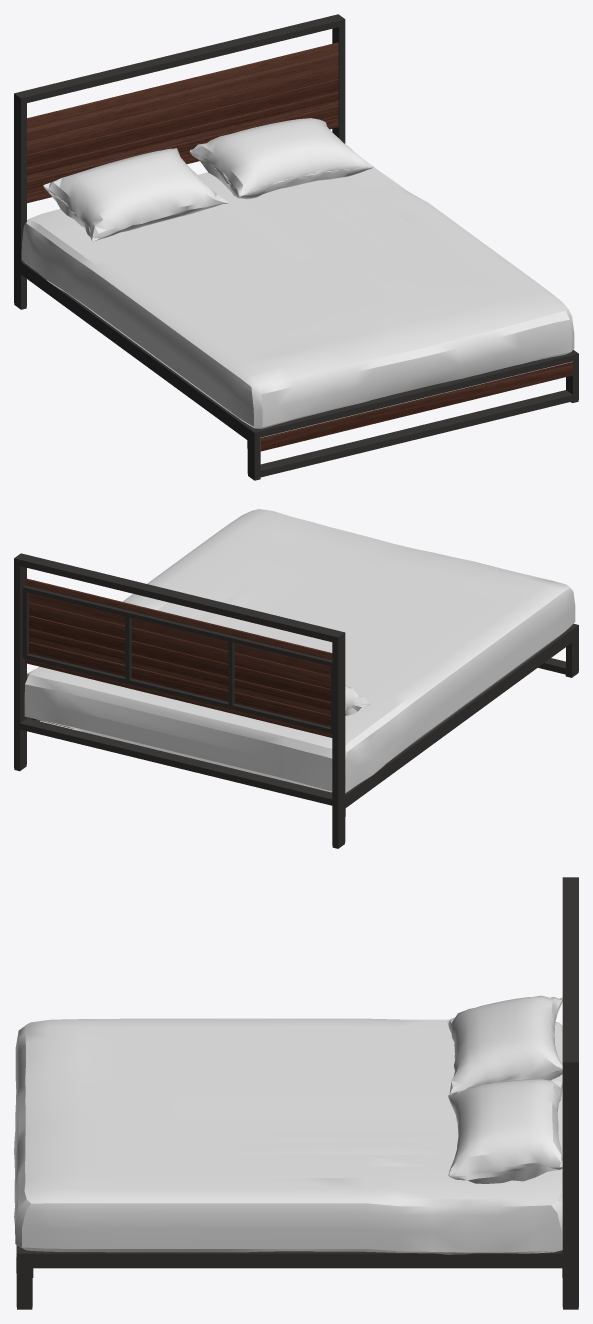
3 views of the same model, one above another, from view 1: azimuth 30°, elevation 25°; view 2: azimuth 150°, elevation 25°; view 3: azimuth 270°, elevation 25° (orthographic). The views are drawn at different scales.
Visible parts, largest first — view 1: C-skp3161; view 2: C-skp3161; view 3: C-skp3161.
Boxes of the visible parts, x1=… form: C-skp3161: x1=14, y1=14, x2=578, y2=480; C-skp3161: x1=14, y1=509, x2=578, y2=848; C-skp3161: x1=14, y1=877, x2=578, y2=1309.
Bounding box in the file's own units: 1.36 × 0.8413 × 1.74.
4 materials, 2 textured.
